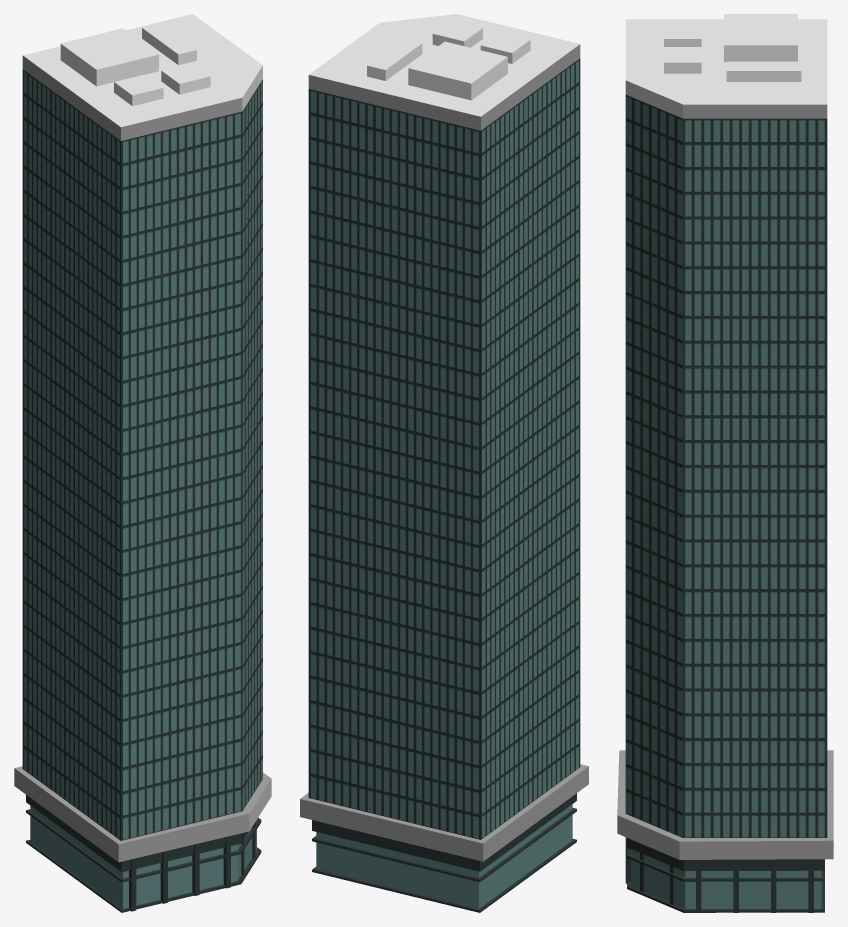
File: Town_Bld-Lrg_BuildingE.FBX
3 renders of one model, left to right at view 1: azimuth 30°, elevation 25°; view 2: azimuth 150°, elevation 25°; view 3: azimuth 270°, elevation 25°, orthographic. The views are drawn at different scales.
Parts seen in each view (by area): view 1: Town_Bld-Lrg_BuildingE; view 2: Town_Bld-Lrg_BuildingE; view 3: Town_Bld-Lrg_BuildingE.
Boxes of the visible parts, box(x1,y1,x2,y2) form: Town_Bld-Lrg_BuildingE: box(14, 14, 271, 912); Town_Bld-Lrg_BuildingE: box(300, 14, 588, 912); Town_Bld-Lrg_BuildingE: box(617, 14, 833, 912).
Bounding box in the file's own units: 1169 × 4924 × 1169.
